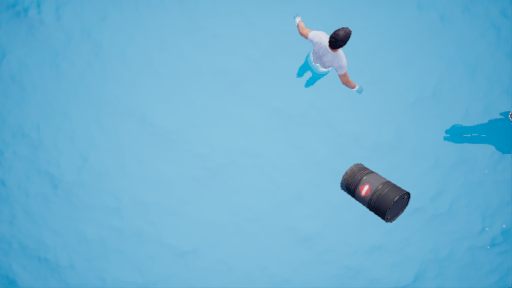person: (288, 18, 368, 97)
